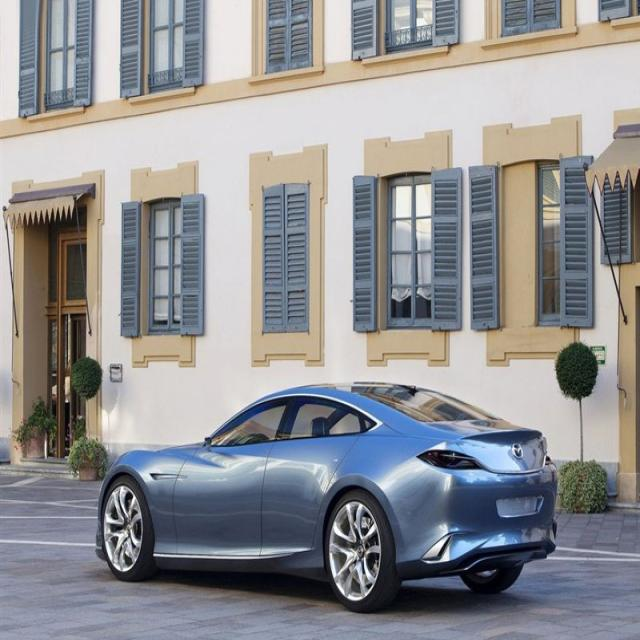back_glass: (365, 384, 495, 426)
back_left_side_light: (416, 446, 486, 472)
back_right_side_light: (539, 450, 556, 468)
front_left_side_door: (170, 390, 294, 574)
rear_bumper: (385, 462, 558, 576)
wheel: (327, 491, 392, 607), (102, 476, 153, 579)
